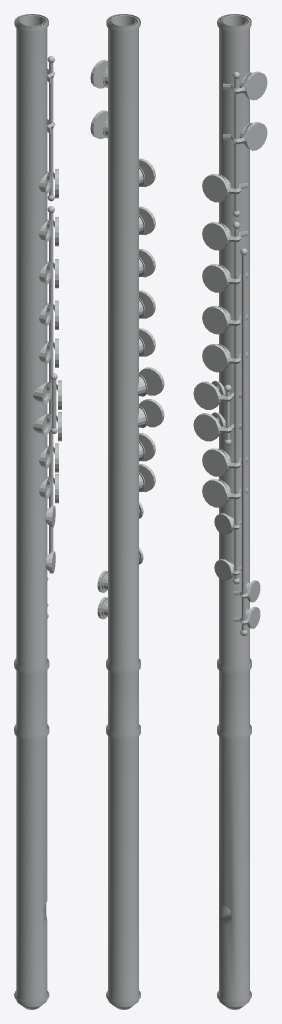
The model's file is Flute.fbx.
3 views of the same model, side by side, from view 1: azimuth 90°, elevation 25°; view 2: azimuth 150°, elevation 25°; view 3: azimuth 330°, elevation 25° (orthographic).
Visible parts, largest first — view 1: Main_low.001, Line_02_low.001, Linw_04_low.001, Line_03_low.001, Base_04_low.001, Base_03_low.001, Base_01_low.001, Base_02_low.001, Base_05_low.001, Base_07_low.001, Base_08_low.001, Base_09_low.001 (+1 smaller); view 2: Main_low.001, Cylinder_04_low.001, Cylinder_03_low.001, Cylinder_11_low.001, Cylinder_10_low.001, Cylinder_02_low.001, Cylinder_05_low.001, Cylinder_06_low.001, Cylinder_08_low.001, Cylinder_09_low.001, Cylinder_07_low.001, Cylinder_01_low.001; view 3: Main_low.001, Line_01_low.001, Line_02_low.001, Cylinder_08_low.001, Cylinder_09_low.001, Cylinder_03_low.001, Cylinder_04_low.001, Cylinder_02_low.001, Cylinder_01_low.001, Cylinder_07_low.001, Cylinder_06_low.001, Cylinder_05_low.001 (+8 smaller).
Part boxes in pixels (<box>): Main_low.001: <box>14,14,49,1009</box>; Line_02_low.001: <box>47,206,54,553</box>; Linw_04_low.001: <box>47,56,54,201</box>; Line_03_low.001: <box>50,373,57,433</box>; Base_04_low.001: <box>32,382,51,404</box>; Base_03_low.001: <box>32,413,51,435</box>; Base_01_low.001: <box>38,477,51,499</box>; Base_02_low.001: <box>38,446,51,468</box>; Base_05_low.001: <box>39,341,51,364</box>; Base_07_low.001: <box>38,262,51,284</box>; Base_08_low.001: <box>38,219,51,242</box>; Base_09_low.001: <box>38,171,51,194</box>; Main_low.001: <box>106,14,140,1009</box>; Cylinder_04_low.001: <box>139,367,164,395</box>; Cylinder_03_low.001: <box>139,399,164,427</box>; Cylinder_11_low.001: <box>90,59,107,88</box>; Cylinder_10_low.001: <box>90,110,107,138</box>; Cylinder_02_low.001: <box>139,433,155,461</box>; Cylinder_05_low.001: <box>139,328,155,356</box>; Cylinder_06_low.001: <box>139,290,155,318</box>; Cylinder_08_low.001: <box>139,206,155,234</box>; Cylinder_09_low.001: <box>139,158,155,186</box>; Cylinder_07_low.001: <box>139,249,155,277</box>; Cylinder_01_low.001: <box>139,463,155,492</box>; Main_low.001: <box>217,14,251,1009</box>; Line_01_low.001: <box>240,248,247,636</box>; Line_02_low.001: <box>233,221,239,584</box>; Cylinder_08_low.001: <box>202,222,247,250</box>; Cylinder_09_low.001: <box>202,174,247,202</box>; Cylinder_03_low.001: <box>193,413,241,441</box>; Cylinder_04_low.001: <box>193,381,241,409</box>; Cylinder_02_low.001: <box>202,448,247,476</box>; Cylinder_01_low.001: <box>202,479,247,507</box>; Cylinder_07_low.001: <box>202,264,247,292</box>; Cylinder_06_low.001: <box>202,306,247,334</box>; Cylinder_05_low.001: <box>202,344,247,372</box>.
Size of the model in its own units: 4.1 by 72.99 by 3.2.
1 material, 1 textured.
